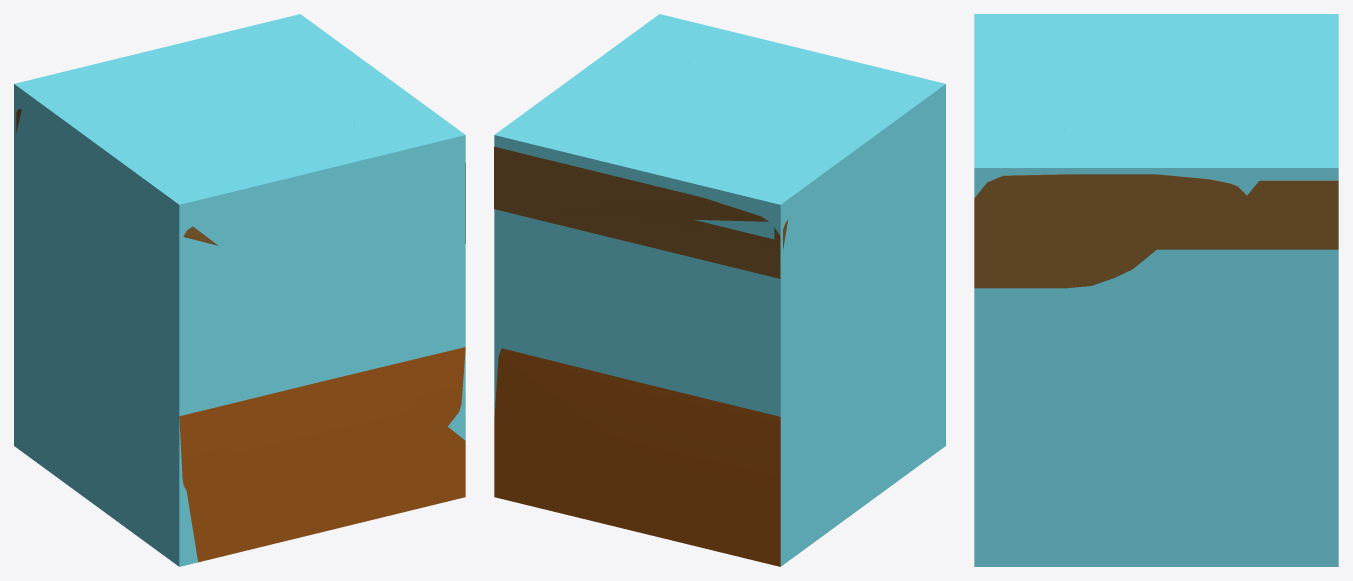
File: PBOX22_Mud_01.FBX
The picture shows the model from 3 angles, left to right: view 1: azimuth 30°, elevation 25°; view 2: azimuth 150°, elevation 25°; view 3: azimuth 270°, elevation 25°; orthographic projection. The views are drawn at different scales.
Visible parts, largest first — view 1: PBOX22_Mud_01, PBOX22_SUB_TAB_MUD_003; view 2: PBOX22_Mud_01, PBOX22_SUB_TAB_MUD_003, PBOX22_SUB_Mud_002; view 3: PBOX22_Mud_01, PBOX22_SUB_Mud_002.
Boxes of the visible parts, x1,y1,x2,y2 form: PBOX22_Mud_01: (14,14,465,566); PBOX22_SUB_TAB_MUD_003: (179,347,465,562); PBOX22_Mud_01: (494,14,945,566); PBOX22_SUB_TAB_MUD_003: (494,348,780,566); PBOX22_SUB_Mud_002: (494,61,788,278); PBOX22_Mud_01: (974,14,1338,566); PBOX22_SUB_Mud_002: (974,130,1338,288).
Size of the model in its own units: 12.01 by 14.5 by 12.01.
